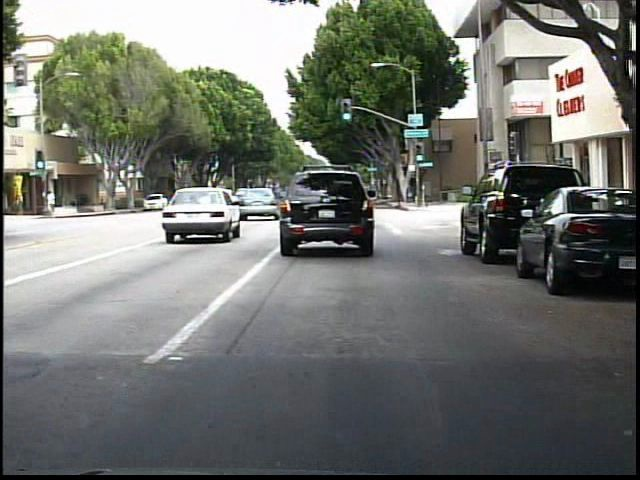person: (49, 187, 60, 217)
